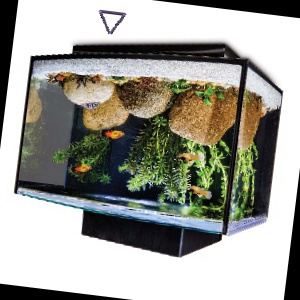triangle: (96, 6, 127, 36)
